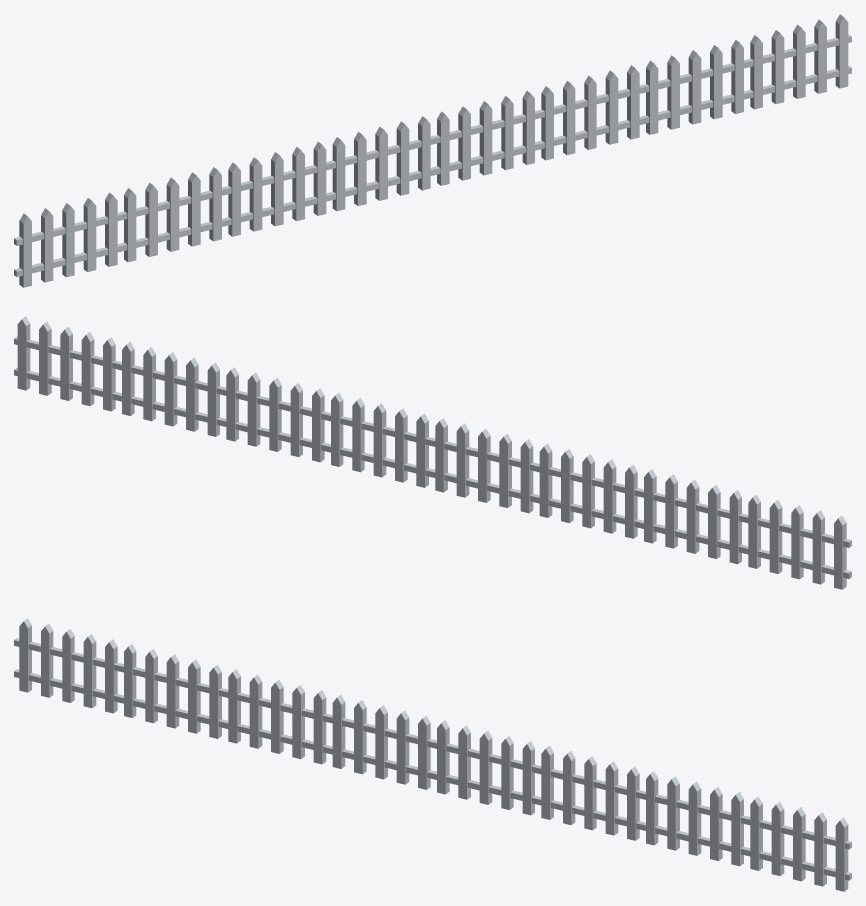
Rendered from Building_Objects_Fence_04.fbx.
The picture shows the model from 3 angles, top to bottom: view 1: azimuth 30°, elevation 25°; view 2: azimuth 150°, elevation 25°; view 3: azimuth 330°, elevation 25°; orthographic projection.
Visible parts, largest first — view 1: Building_Objects_Fence_04; view 2: Building_Objects_Fence_04; view 3: Building_Objects_Fence_04.
Boxes of the visible parts, <box> form: Building_Objects_Fence_04: <box>14,14,851,287</box>; Building_Objects_Fence_04: <box>14,316,851,589</box>; Building_Objects_Fence_04: <box>14,618,851,891</box>.
Size of the model in its own units: 1078 by 87.06 by 9.07.
